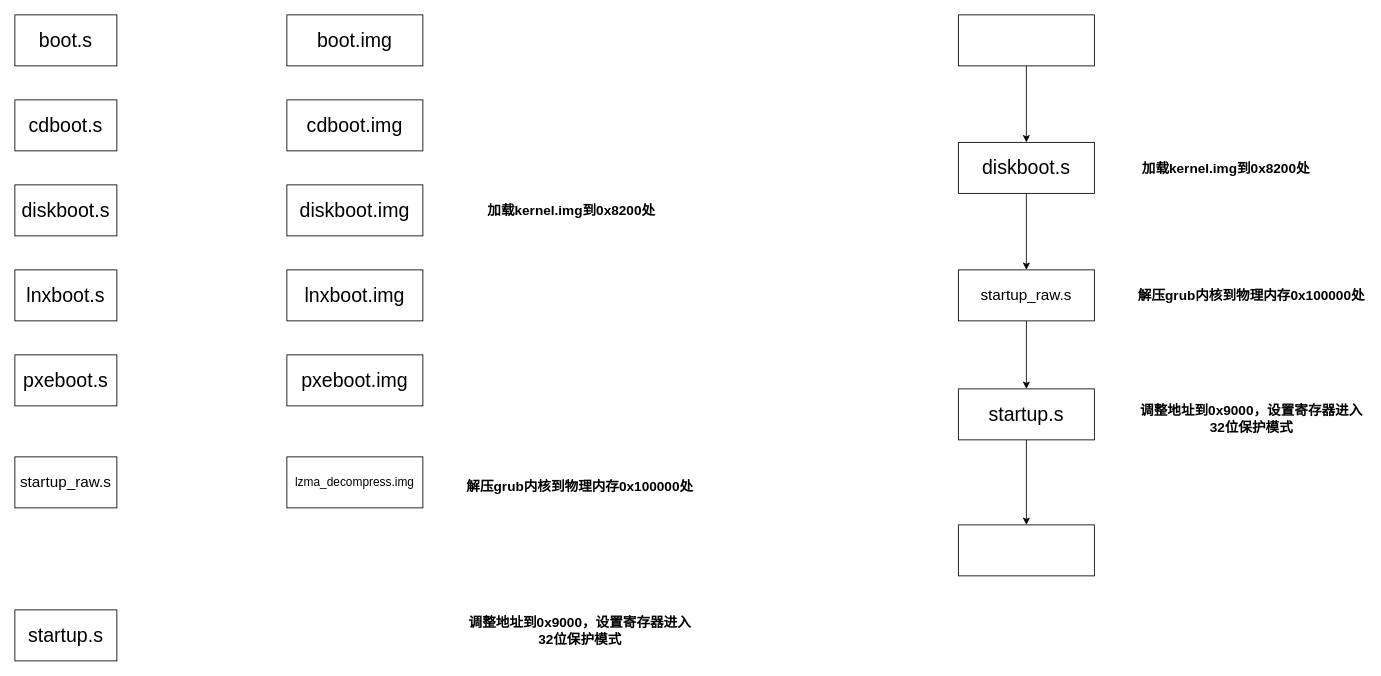
Some shapes in this 1381 by 676 pixel diagram are drawn without their labels. The shapes that lost their labels are listed below. From the top down, each one's centre as x and y in pixels, then its label:
At pixel 1026 40: "boot.".
At pixel 1026 550: "grub_main".
